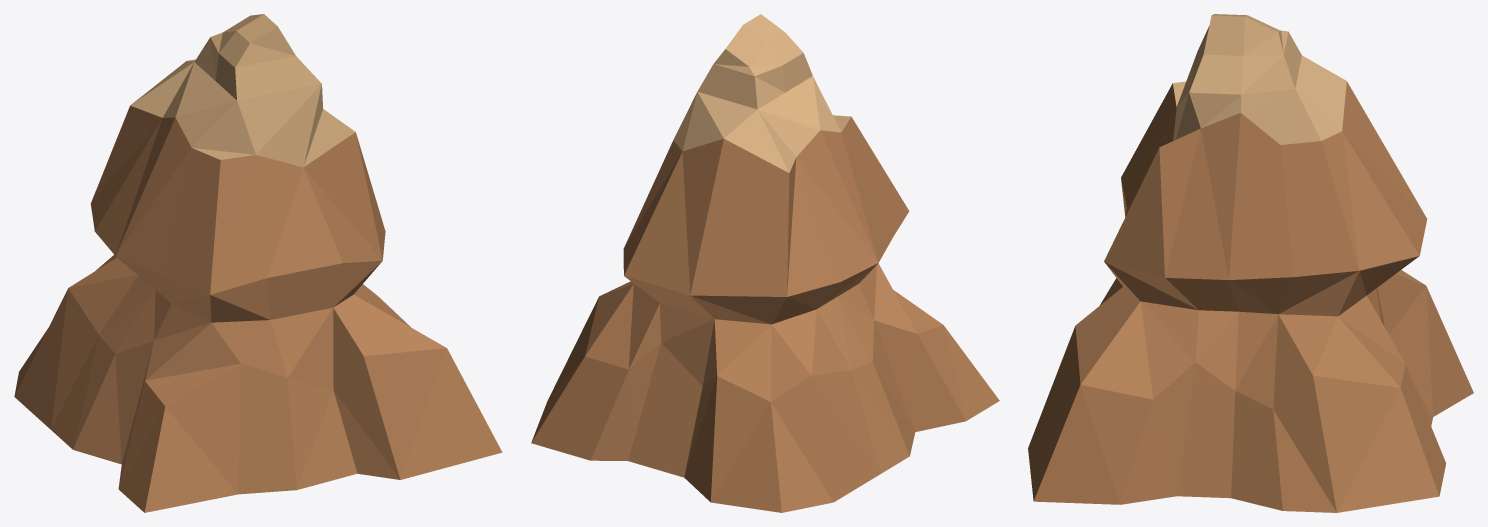
Rendered from Rock_10.fbx.
The picture shows the model from 3 angles, left to right: view 1: azimuth 30°, elevation 25°; view 2: azimuth 150°, elevation 25°; view 3: azimuth 270°, elevation 25°; orthographic projection. The views are drawn at different scales.
Parts seen in each view (by area): view 1: Rock_10; view 2: Rock_10; view 3: Rock_10.
Boxes of the visible parts, x1=… form: Rock_10: x1=14, y1=14, x2=502, y2=512; Rock_10: x1=531, y1=14, x2=999, y2=512; Rock_10: x1=1028, y1=14, x2=1473, y2=512.
Size of the model in its own units: 575 by 604 by 620.
